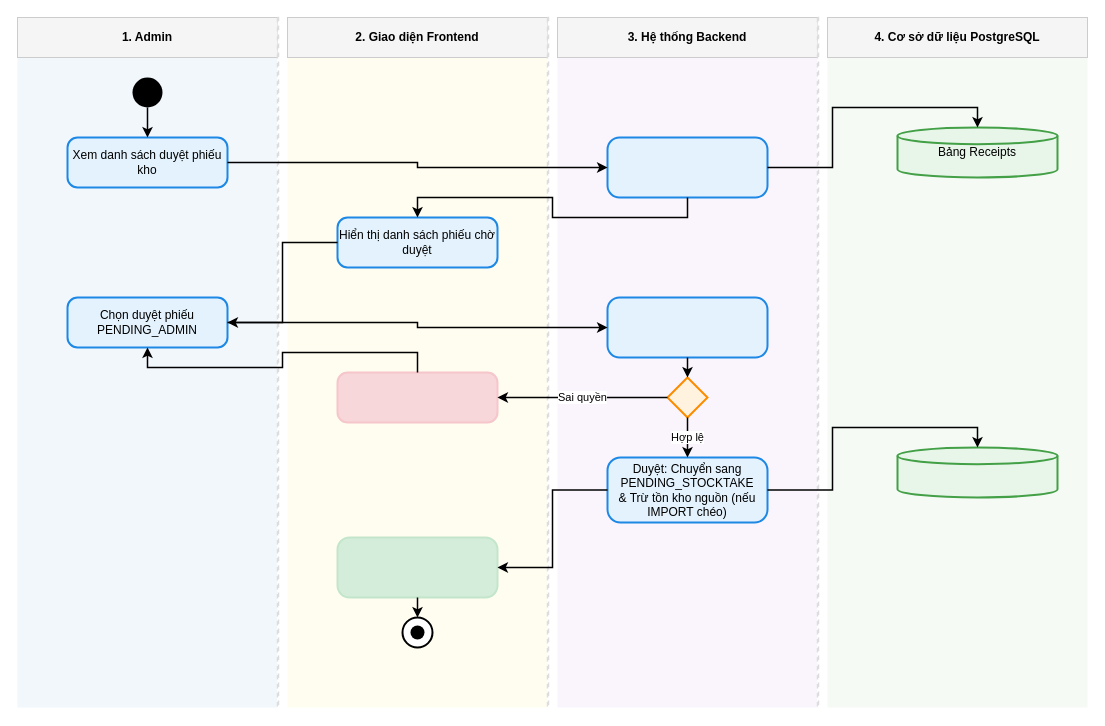
Some shapes in this 1105 by 726 pixel diagram are drawn without their labels. The shapes that lost their labels are listed below. From the top down, each one's centre as x and y in pixels, then its label:
At [687,167]: "Lọc phiếu IMPORT/TRANSFER đang ở PENDING_ADMIN của chi nhánh con".
At [687,327]: "Kiểm tra quyền ADMIN hệ thống".
At [417,397]: "Thông báo lỗi quyền duyệt".
At [977,472]: "Cập nhật Inventories & Receipts".
At [417,567]: "Thông báo duyệt thành công, cập nhật trạng thái PENDING_STOCKTAKE".
